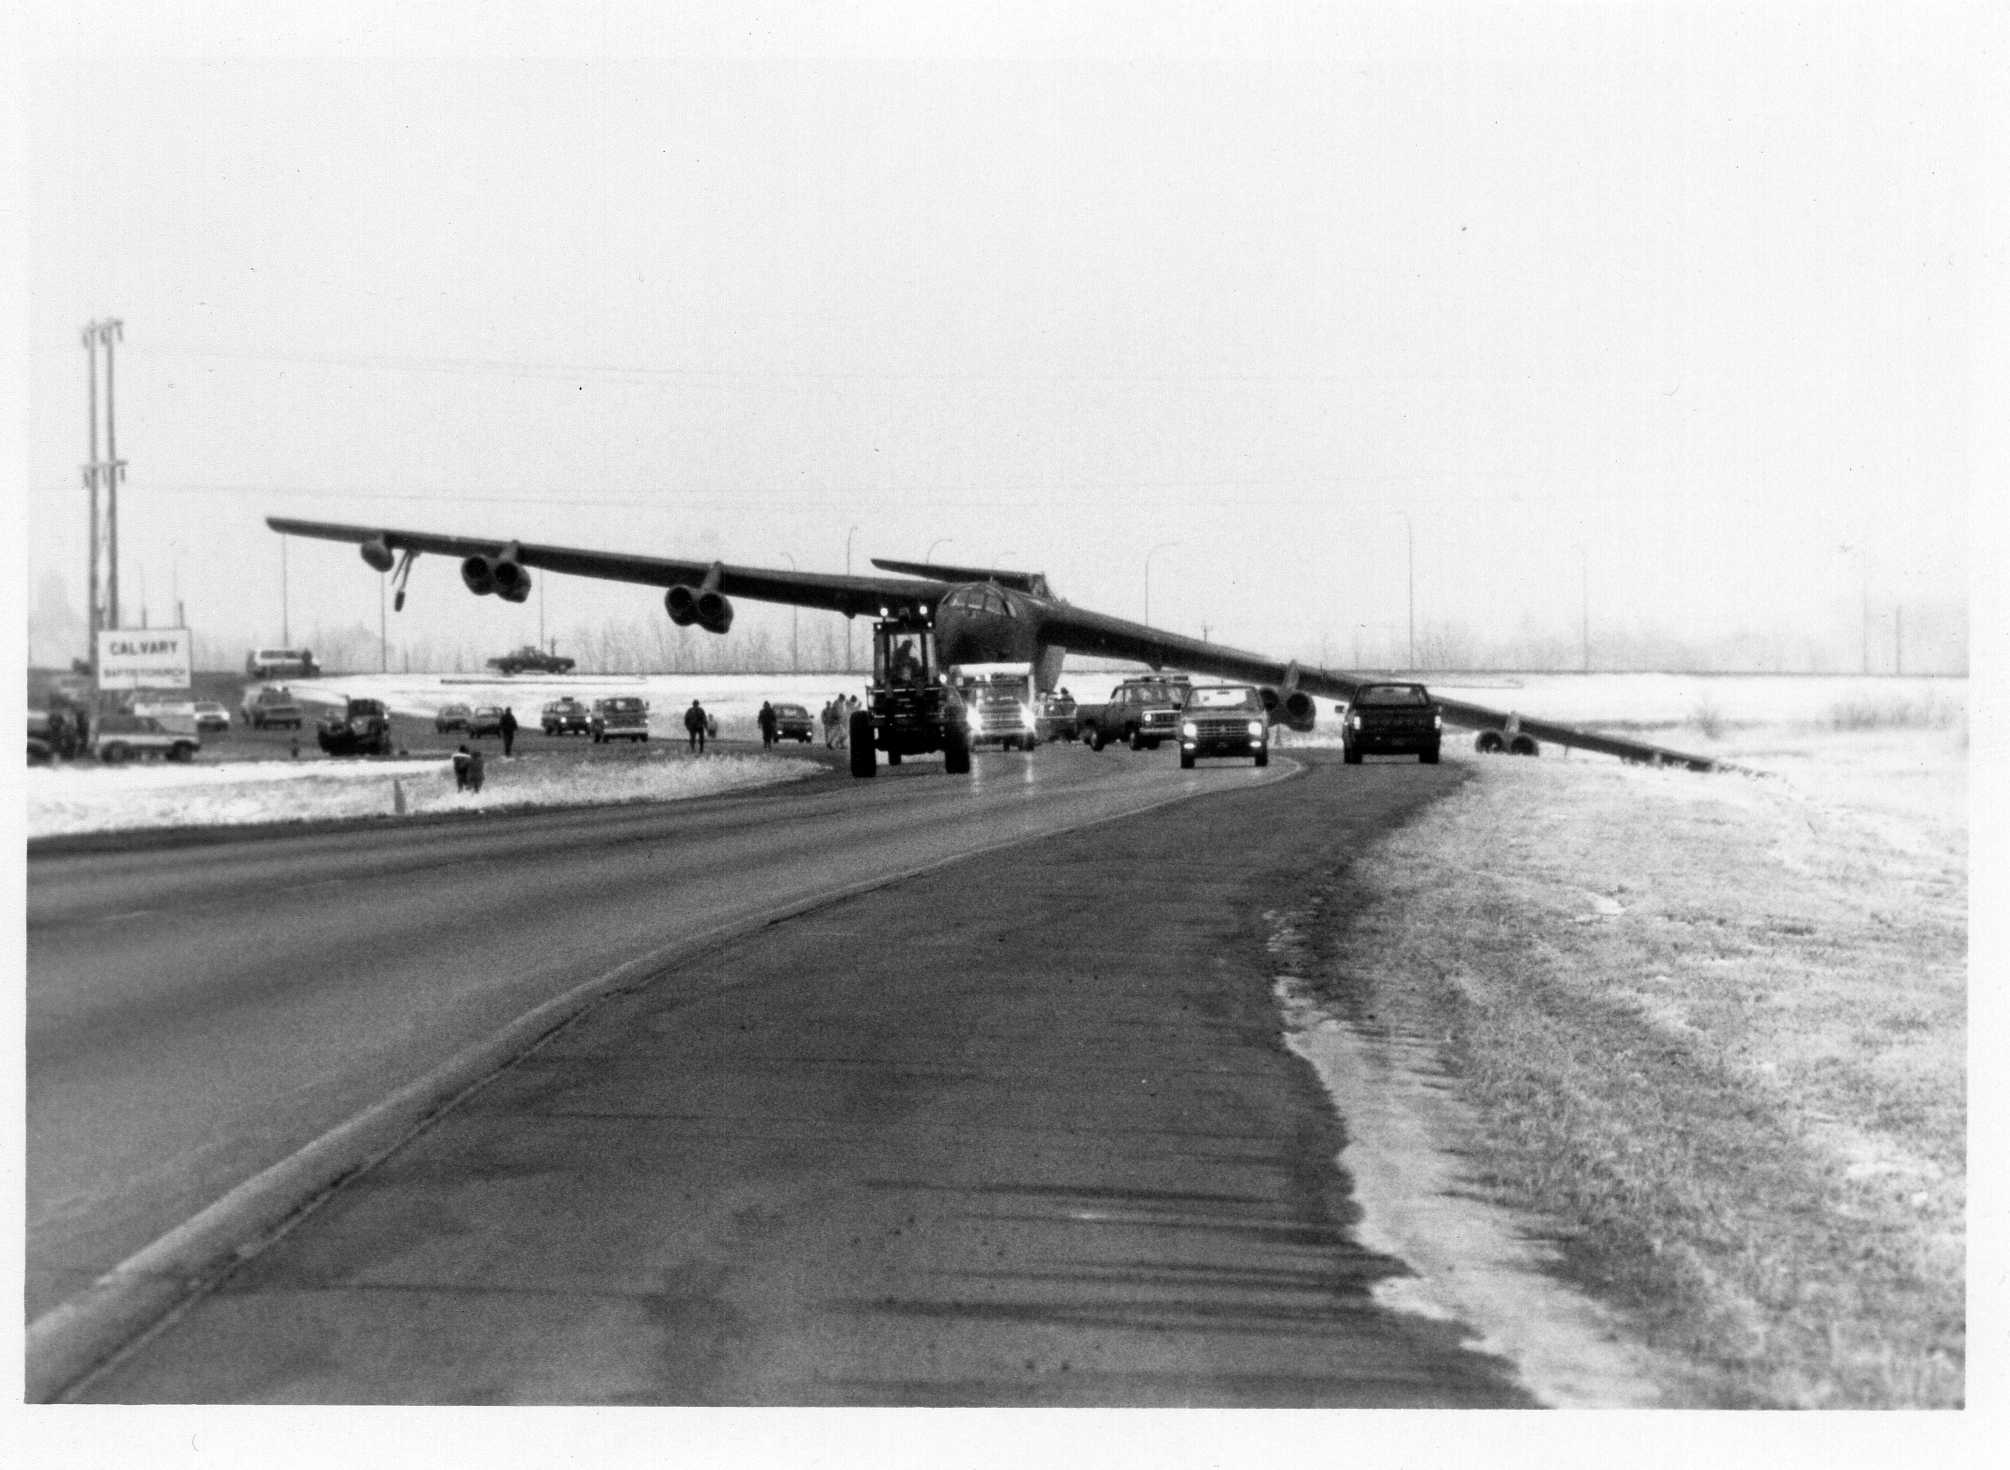B52: (264, 515, 1779, 779)
